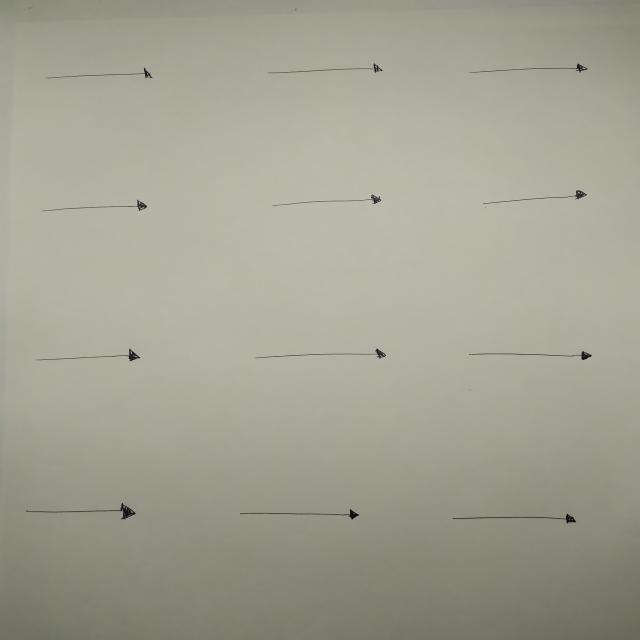arrow_line_right: (454, 339, 618, 373), (222, 494, 376, 528), (460, 181, 604, 217), (241, 338, 403, 370), (258, 52, 413, 80), (13, 499, 157, 529), (262, 186, 392, 218), (440, 506, 594, 532), (456, 54, 598, 80), (36, 62, 160, 88), (21, 342, 148, 366), (33, 193, 164, 215)
